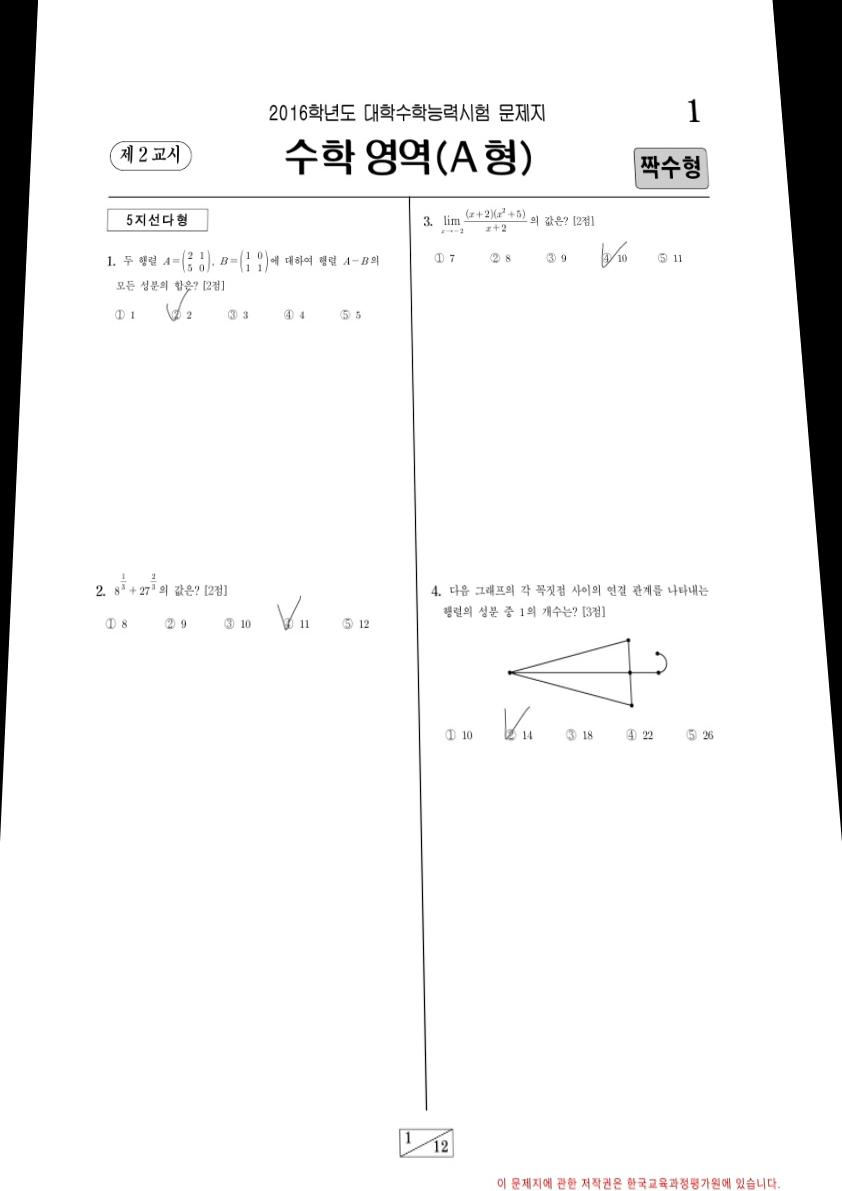question: (421, 573, 733, 761), (93, 242, 387, 337), (78, 562, 381, 651), (415, 200, 693, 281)
